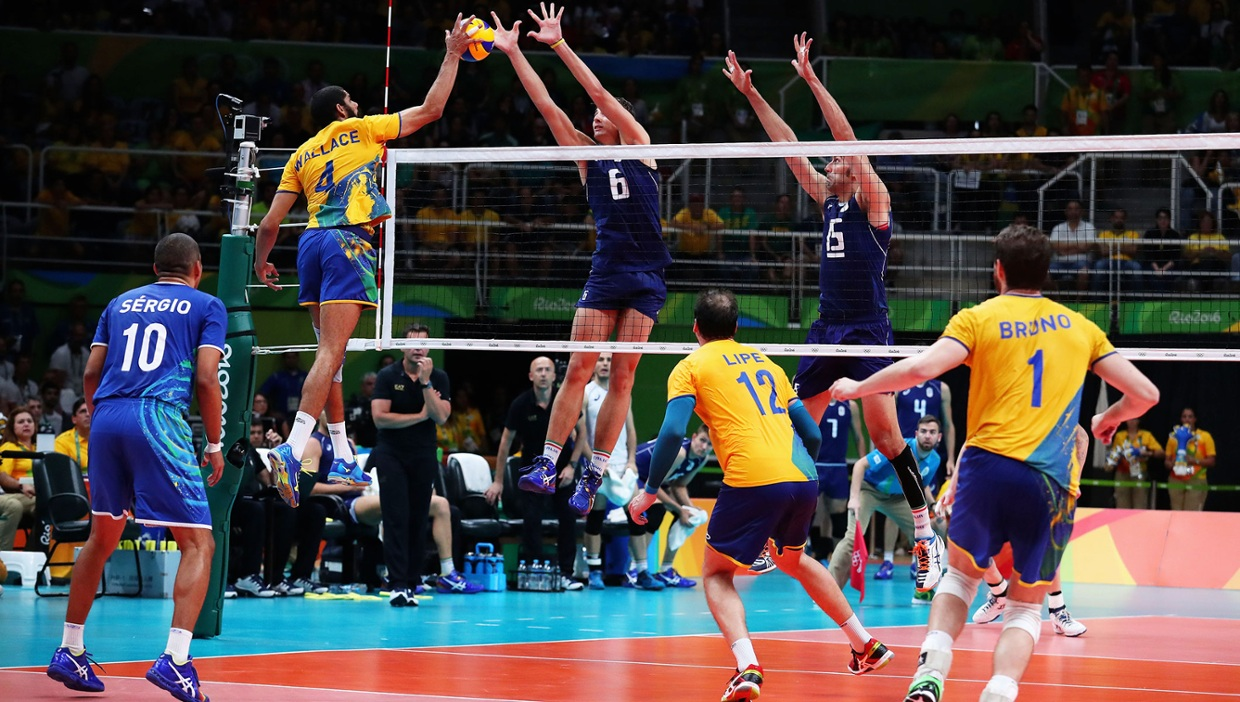volleyball: (444, 13, 502, 66)
